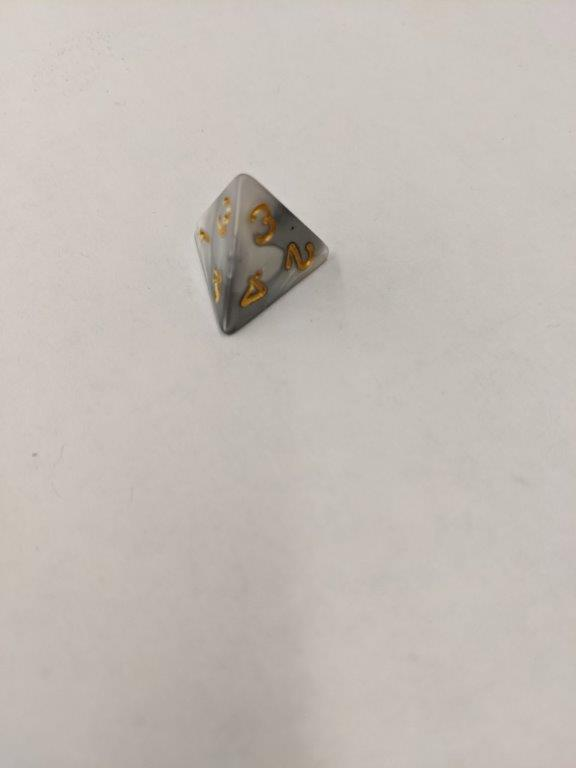d4-3: (188, 173, 332, 339)
